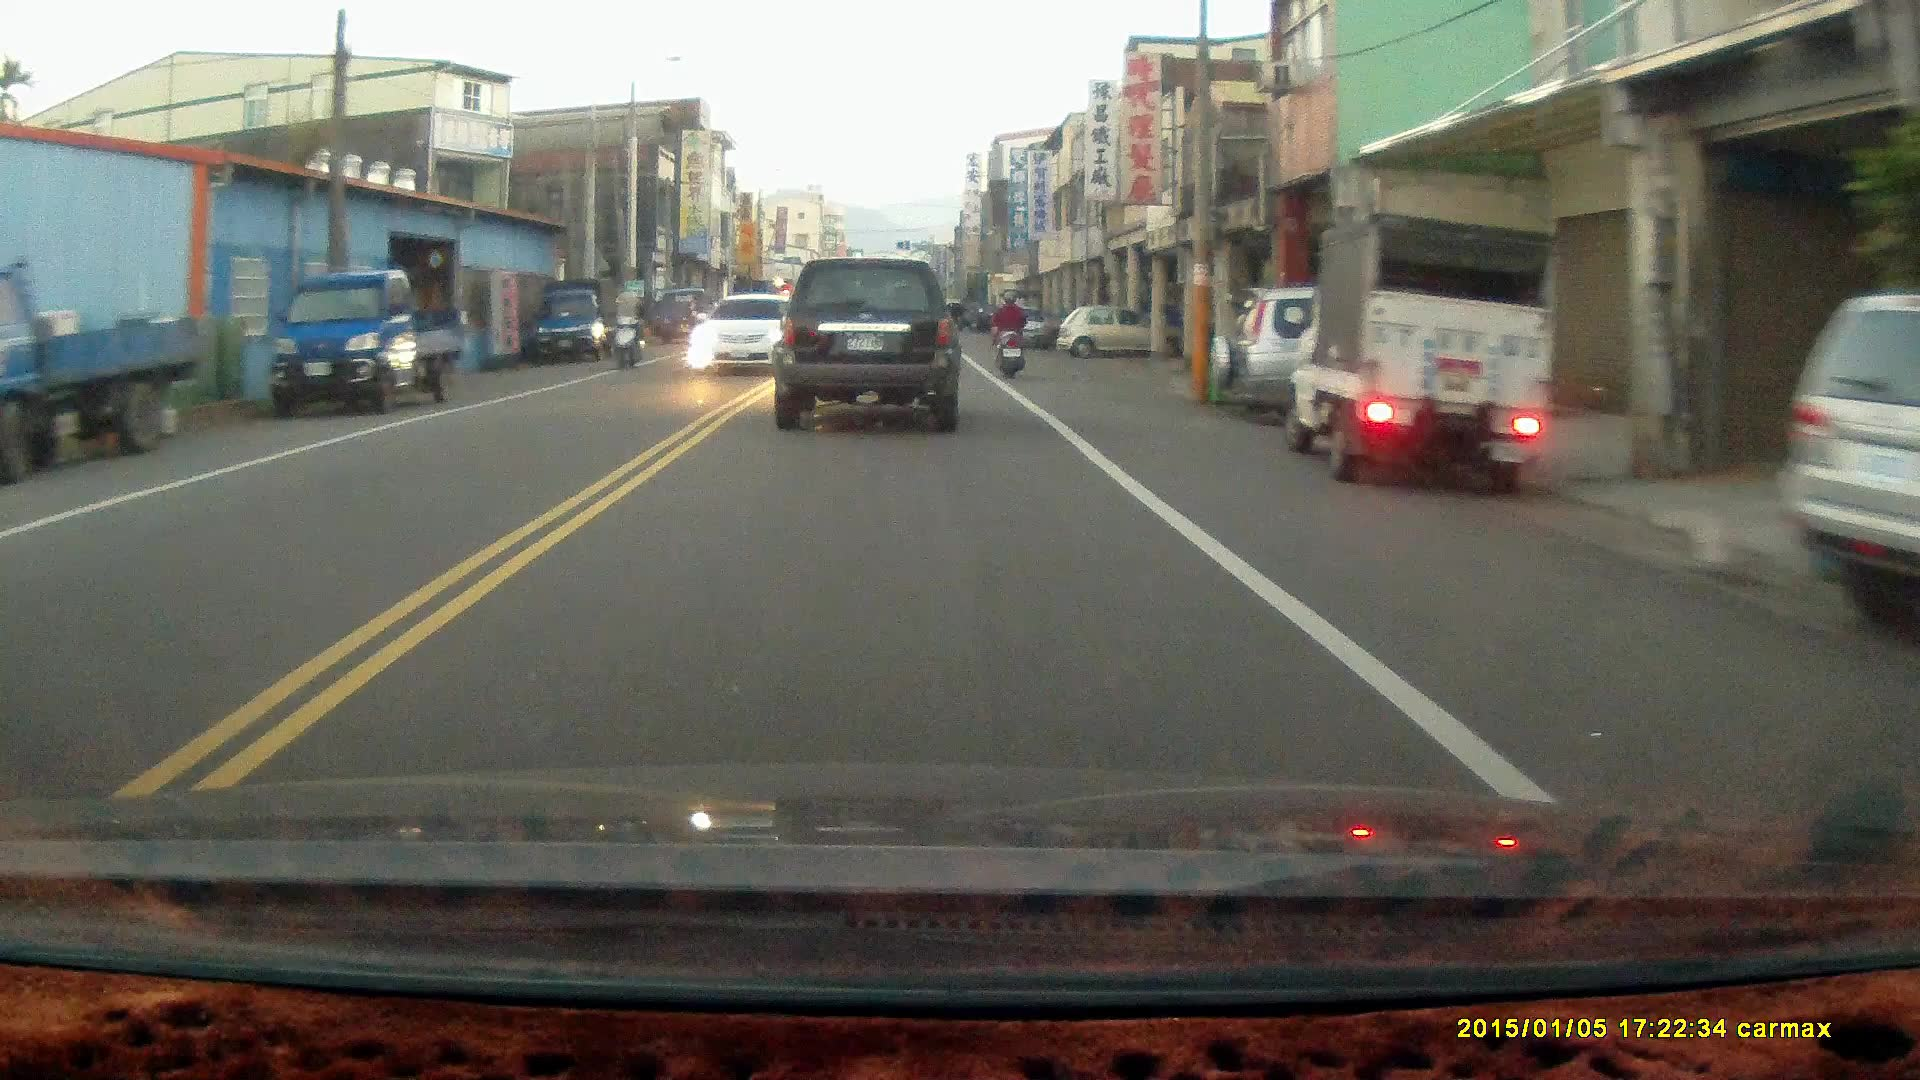pedestrian: (683, 297, 703, 349)
rider: (991, 282, 1028, 379), (607, 280, 644, 369)
vehicle: (1283, 214, 1565, 495), (1208, 277, 1555, 429), (1773, 288, 1920, 633), (1, 265, 203, 469), (770, 255, 964, 431), (269, 270, 467, 413), (527, 278, 632, 361), (696, 290, 792, 378), (1061, 306, 1147, 359)
